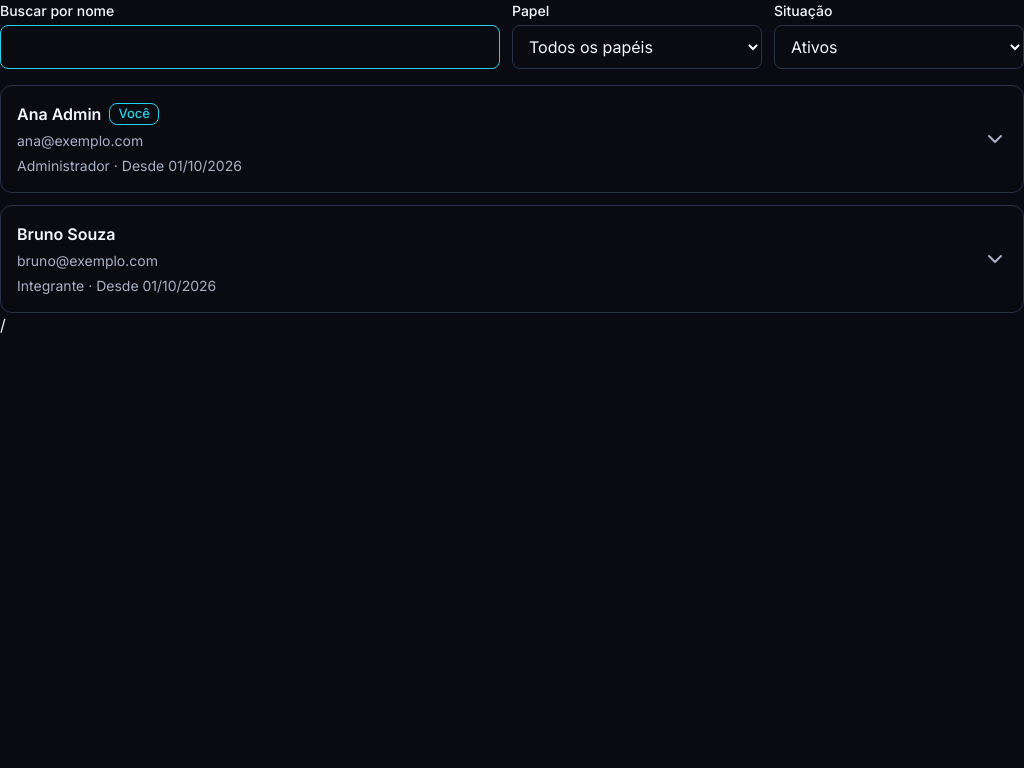
Test: MembersPanel (FAM-003) › CA-FAM-010: erro do ultimo administrador e mostrado ao usuario
This screenshot has width=1024, height=768.
Expected: the text "Bruno Souza" is shown, x1=17 y1=224 x2=116 y2=244
Click the button "Ana Admin" at (59, 114), box x1=0 y1=85 x2=1023 y2=193
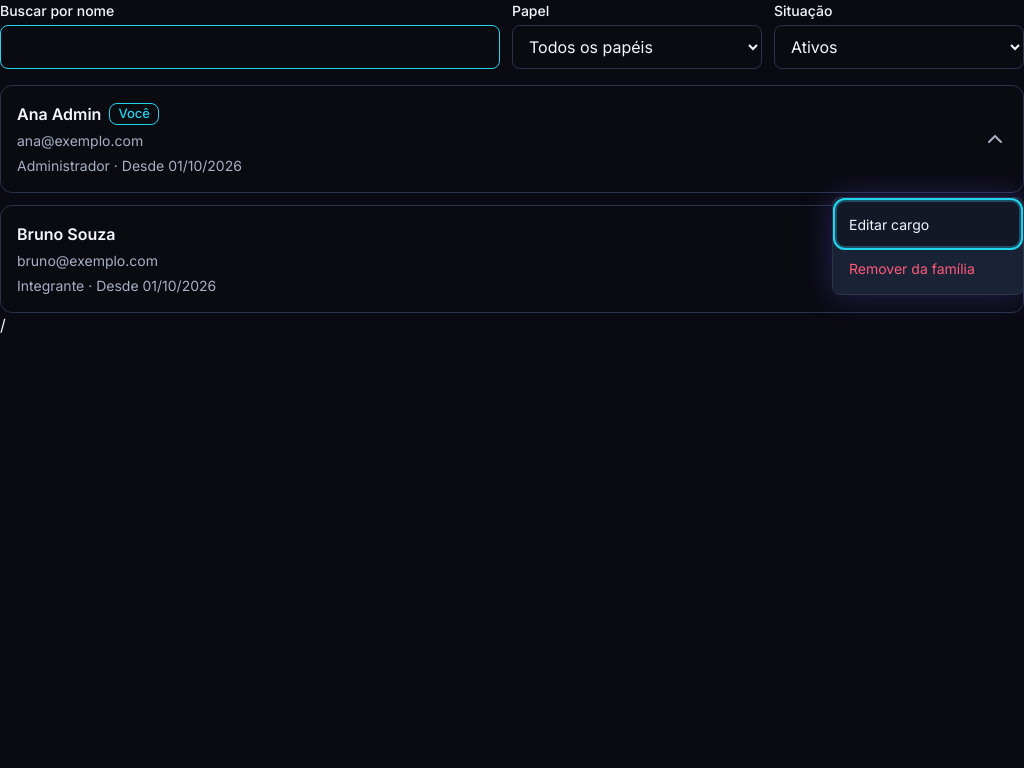
Click the menu item "Remover da família" at (928, 268), box x1=837 y1=246 x2=1019 y2=290
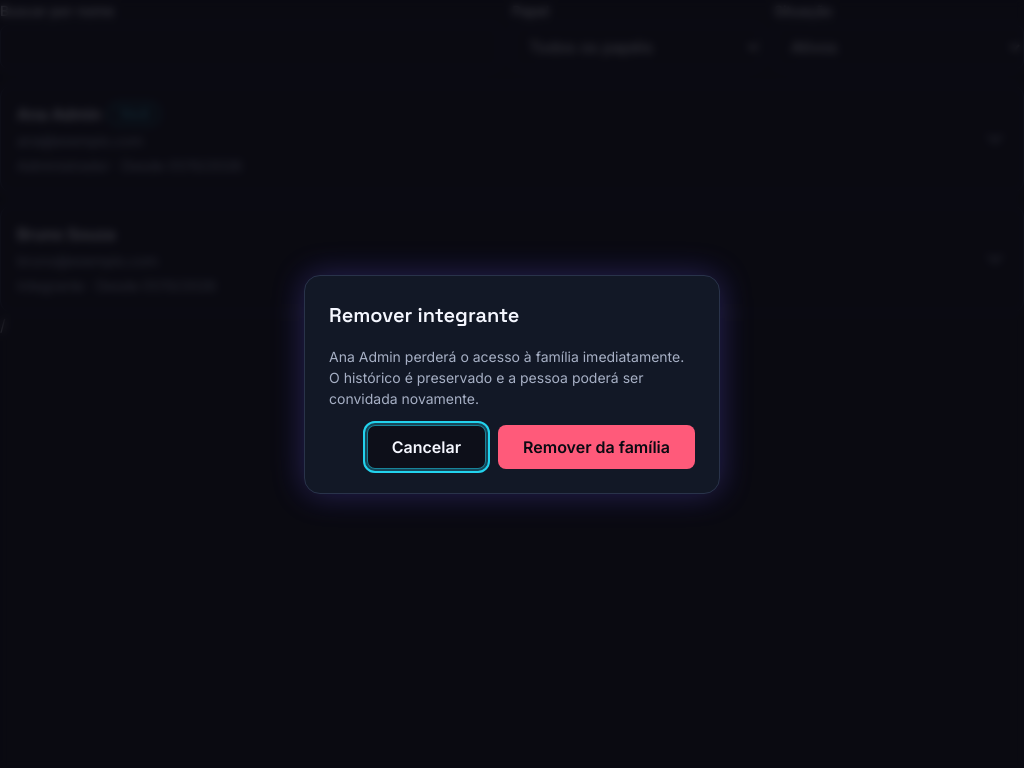
Click the button "Remover da família" at (596, 446), box x1=498 y1=424 x2=695 y2=468
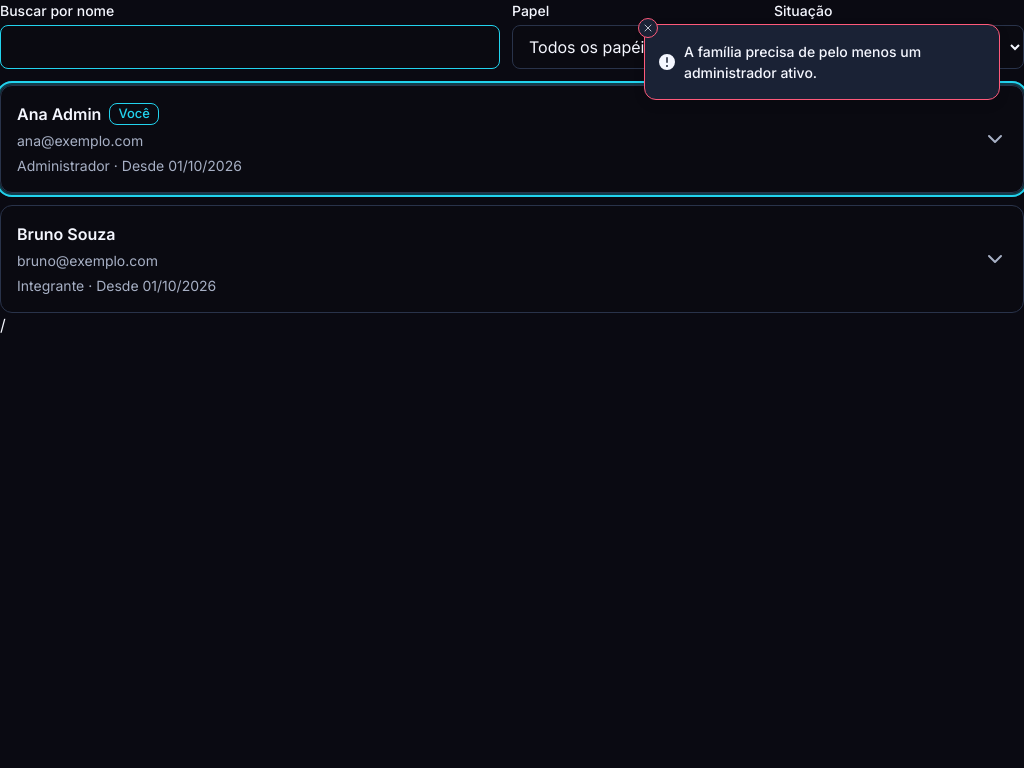
Expected: the text "A família precisa de pelo menos um administrador ativo." is shown, x1=684 y1=43 x2=921 y2=81
